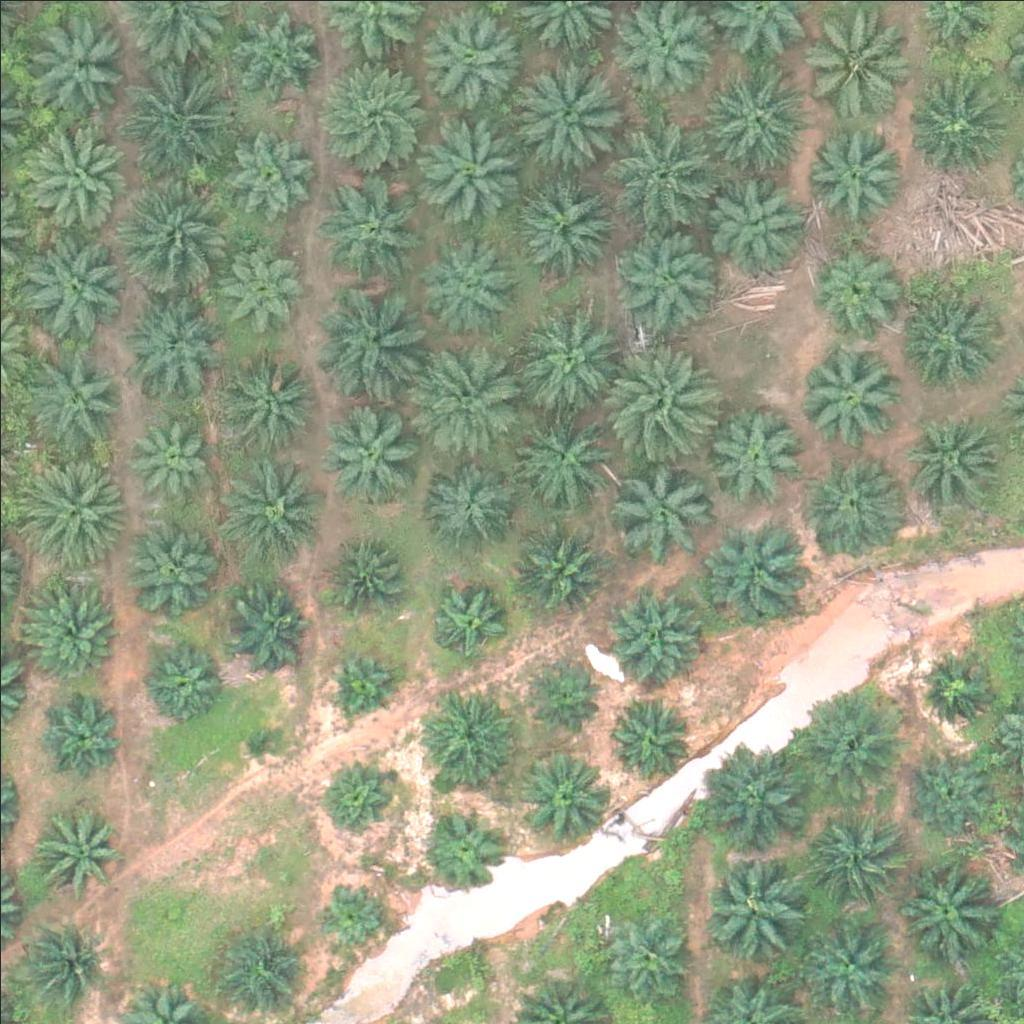Kelapa_Sawit: (413, 343, 526, 457), (893, 860, 1006, 973), (794, 680, 907, 793), (705, 859, 818, 972), (321, 66, 434, 179), (414, 109, 527, 222), (703, 65, 816, 178), (121, 182, 233, 296), (124, 64, 236, 178), (317, 287, 429, 401), (801, 799, 913, 912), (702, 736, 814, 849), (14, 453, 126, 566), (509, 60, 621, 173), (605, 115, 717, 228), (611, 225, 723, 338), (604, 345, 716, 458), (795, 2, 907, 115), (422, 678, 522, 779), (20, 579, 120, 680), (119, 511, 219, 612), (321, 398, 421, 499), (609, 461, 709, 562), (711, 522, 811, 623), (803, 457, 903, 558), (903, 408, 1003, 509), (22, 344, 122, 445), (24, 225, 124, 326), (124, 287, 224, 388), (227, 7, 327, 108), (419, 8, 519, 109), (420, 237, 520, 338), (521, 307, 621, 408), (517, 174, 617, 275), (706, 170, 806, 271), (801, 122, 901, 223), (798, 347, 898, 448), (902, 287, 1002, 388), (802, 920, 902, 1020), (210, 914, 310, 1014), (221, 457, 321, 557), (606, 576, 706, 676), (707, 407, 807, 507), (22, 118, 122, 218), (28, 12, 128, 112), (214, 127, 314, 227), (218, 353, 318, 453), (323, 176, 423, 276), (418, 456, 518, 556), (511, 401, 611, 501), (907, 69, 1007, 169), (910, 645, 998, 733), (601, 914, 689, 1002), (35, 691, 123, 779), (128, 404, 216, 492), (222, 586, 310, 674), (214, 244, 302, 332), (30, 806, 117, 895), (905, 749, 992, 837), (17, 916, 104, 1004), (418, 803, 505, 891), (519, 523, 606, 611), (323, 522, 410, 610), (139, 645, 226, 733), (524, 754, 611, 842), (606, 691, 693, 779), (811, 248, 898, 336), (433, 581, 508, 657), (327, 641, 402, 717), (321, 758, 396, 834), (310, 878, 385, 954), (523, 651, 598, 726), (235, 723, 285, 773)
